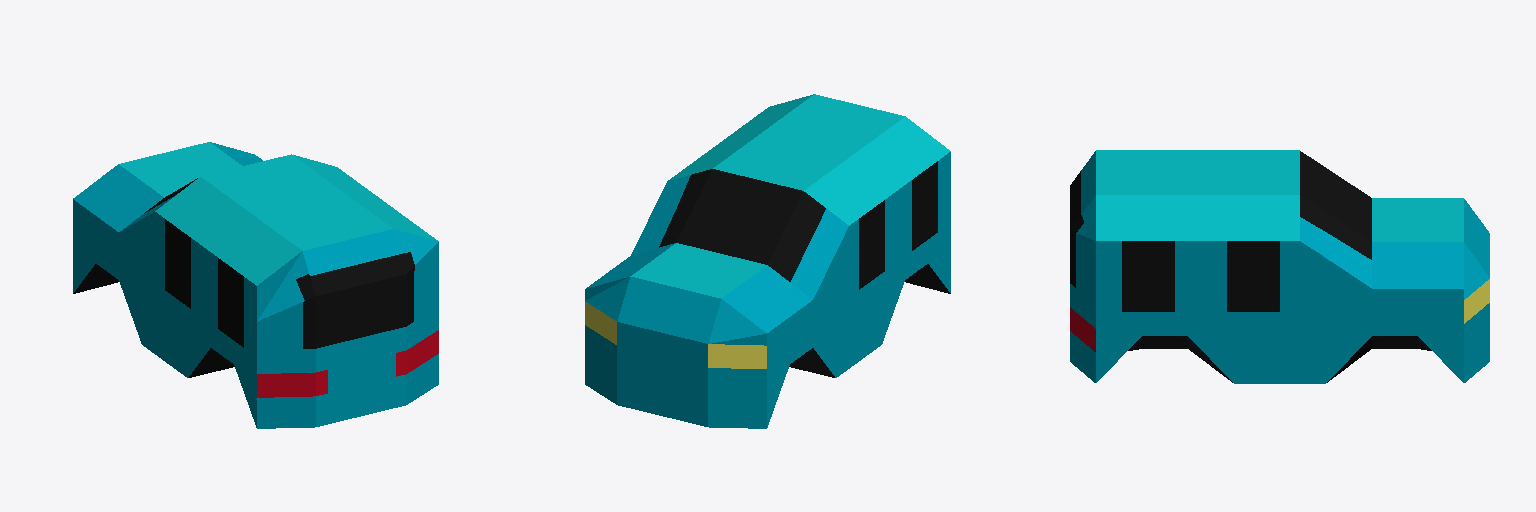
3 renders of one model, left to right at view 1: azimuth 30°, elevation 25°; view 2: azimuth 150°, elevation 25°; view 3: azimuth 270°, elevation 25°, orthographic.
Parts seen in each view (by area): view 1: cube; view 2: cube; view 3: cube.
Part boxes in pixels (x1,y1,x2,y2): cube: (73, 142, 438, 428); cube: (585, 94, 950, 428); cube: (1070, 150, 1489, 383).
Bounding box in the file's own units: 0.5 × 0.4375 × 1.
1 materials, 1 textured.